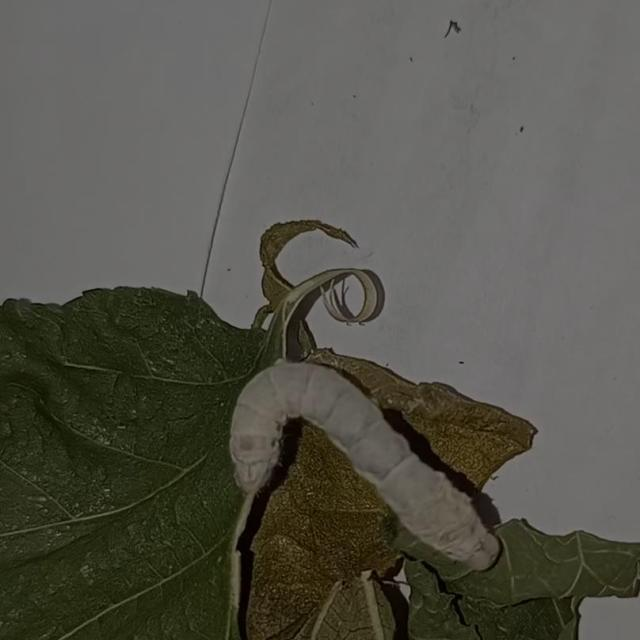Healthy: (219, 341, 510, 584)
